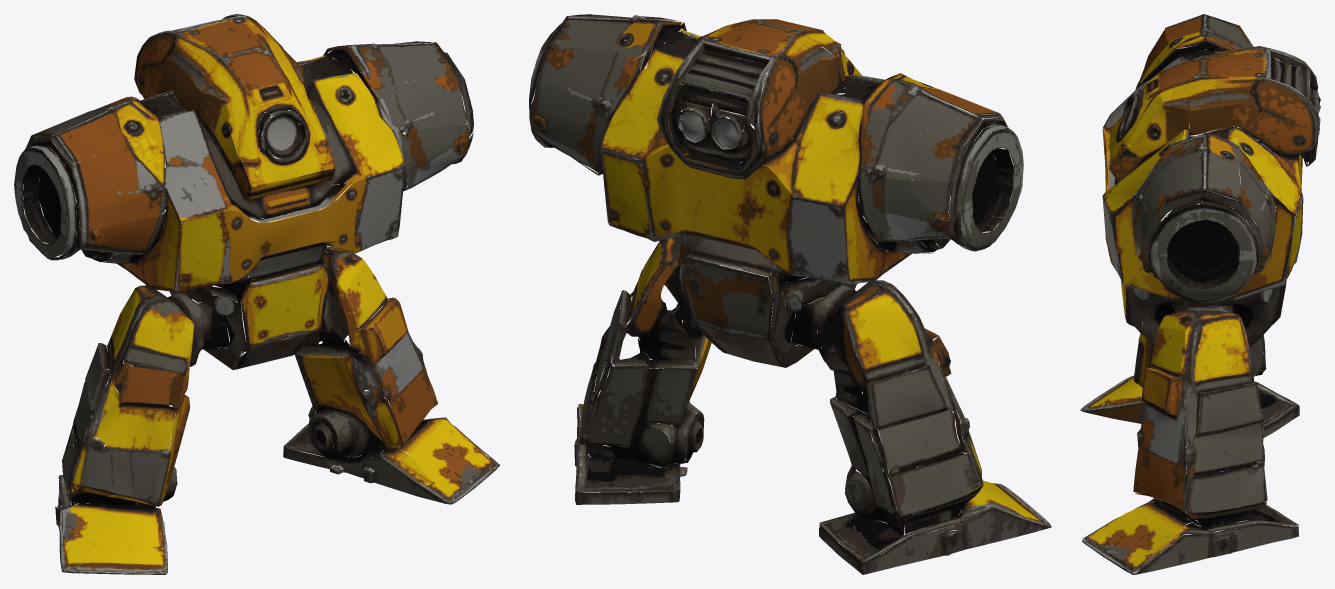
Rendered from ch_brute.glb.
The picture shows the model from 3 angles, left to right: view 1: azimuth 30°, elevation 25°; view 2: azimuth 150°, elevation 25°; view 3: azimuth 270°, elevation 25°; orthographic projection. The views are drawn at different scales.
Visible parts, largest first — view 1: ch_brute, limb_leg_r, limb_leg_l; view 2: ch_brute, limb_leg_l, limb_leg_r; view 3: ch_brute, limb_leg_r, limb_leg_l.
Boxes of the visible parts, <box> form: ch_brute: <box>14,14,473,395</box>; limb_leg_r: <box>283,326,499,504</box>; limb_leg_l: <box>55,355,189,574</box>; ch_brute: <box>529,14,1023,397</box>; limb_leg_l: <box>819,362,1051,574</box>; limb_leg_r: <box>574,303,711,504</box>; ch_brute: <box>1102,14,1320,407</box>; limb_leg_r: <box>1082,387,1298,574</box>; limb_leg_l: <box>1080,303,1299,437</box>.
Size of the model in its own units: 0.6304 by 0.61 by 0.3227.
Materials: 1 (1 with a texture image).
